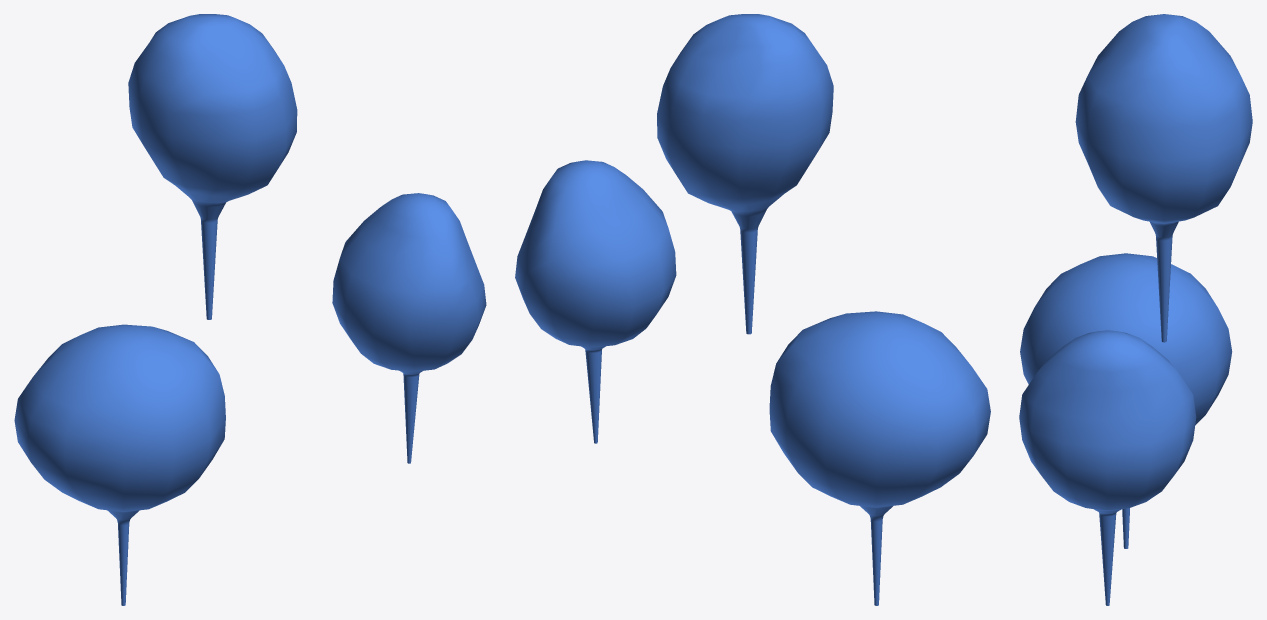
Rendered from qiu.fbx.
3 views of the same model, side by side, from view 1: azimuth 30°, elevation 25°; view 2: azimuth 150°, elevation 25°; view 3: azimuth 270°, elevation 25° (orthographic). The views are drawn at different scales.
Visible parts, largest first — view 1: pSphere1, pSphere3, pSphere2; view 2: pSphere1, pSphere3, pSphere2; view 3: pSphere3, pSphere2, pSphere1.
Boxes of the visible parts, bbox=[...] form: pSphere1: bbox=[14, 324, 225, 605]; pSphere3: bbox=[128, 14, 297, 319]; pSphere2: bbox=[332, 193, 486, 463]; pSphere1: bbox=[769, 311, 990, 605]; pSphere3: bbox=[657, 14, 833, 334]; pSphere2: bbox=[515, 160, 676, 443]; pSphere3: bbox=[1075, 14, 1252, 342]; pSphere2: bbox=[1019, 330, 1196, 605]; pSphere1: bbox=[1020, 253, 1232, 548].
Bounding box in the file's own units: 6 × 7.19 × 2.64.
Materials: 1 (1 with a texture image).
